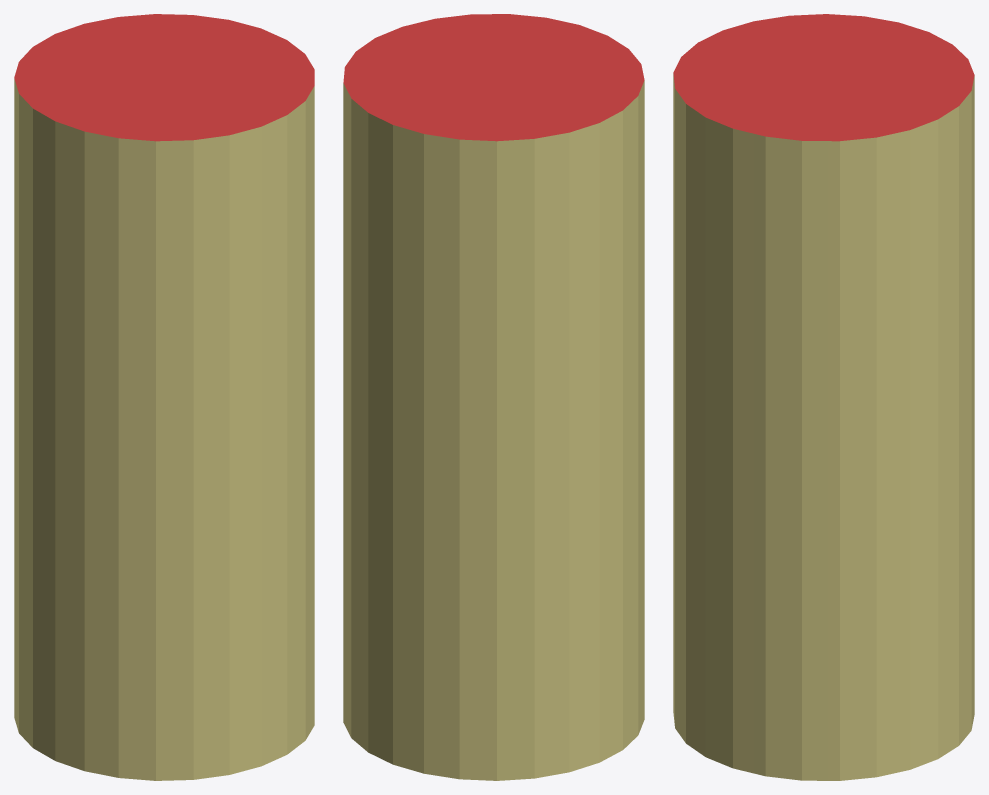
The picture shows the model from 3 angles, left to right: view 1: azimuth 30°, elevation 25°; view 2: azimuth 150°, elevation 25°; view 3: azimuth 270°, elevation 25°; orthographic projection.
Size of the model in its own units: 3.05 by 3.05 by 7.14.
